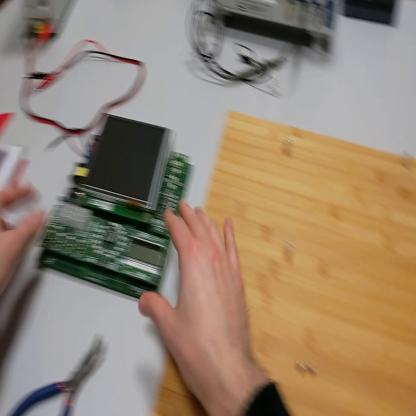hand: (142, 198, 257, 403), (2, 159, 46, 294)
low voltage board: (34, 117, 206, 303)
oscilloscope: (209, 1, 339, 57)
oscilloscope probe tip: (229, 58, 288, 85)
power supply: (23, 2, 76, 46)
register: (2, 109, 31, 190)
working area: (154, 109, 416, 414)
